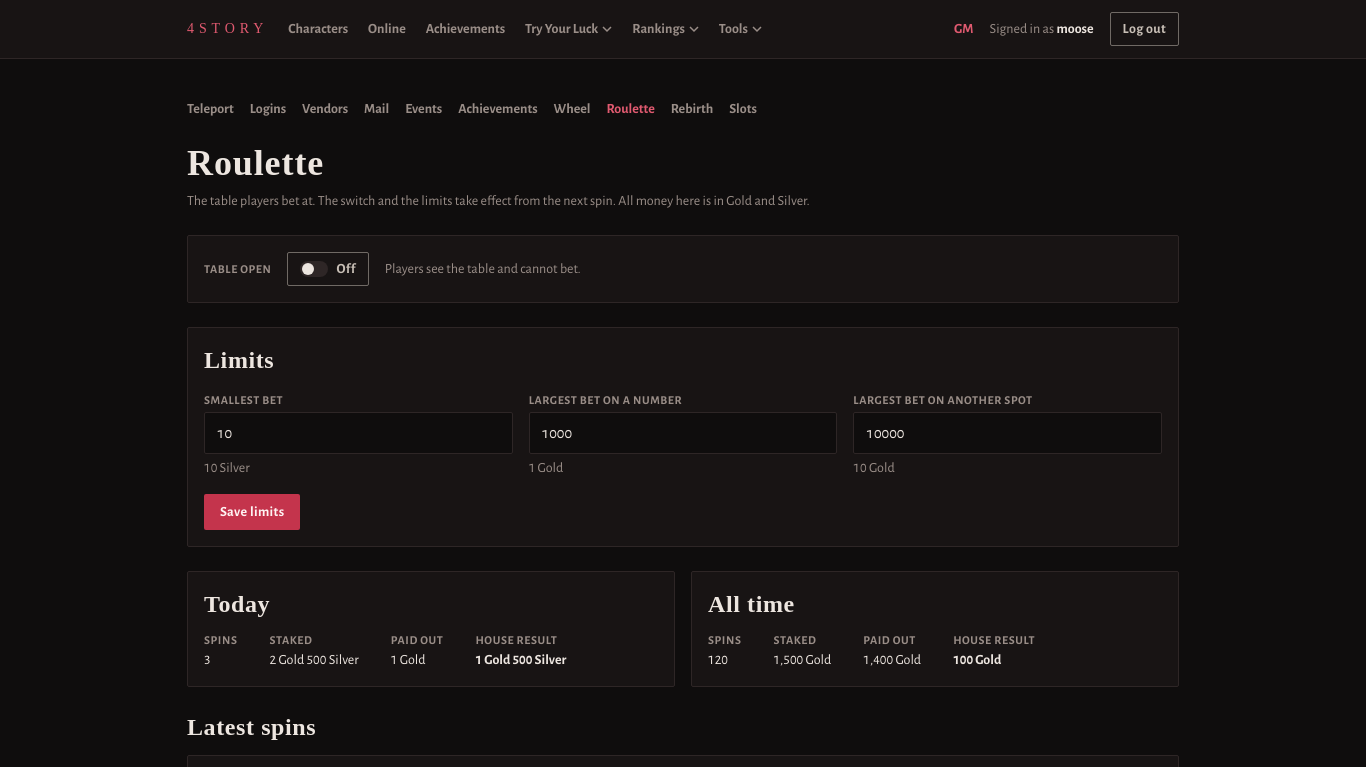
Scenario: GM roulette page › opens and closes the table
What coordinates should you click on to do the following:
click the switch named "Table open"
I would click on:
 (328, 269)
Its box is left=287, top=252, right=369, bottom=286.
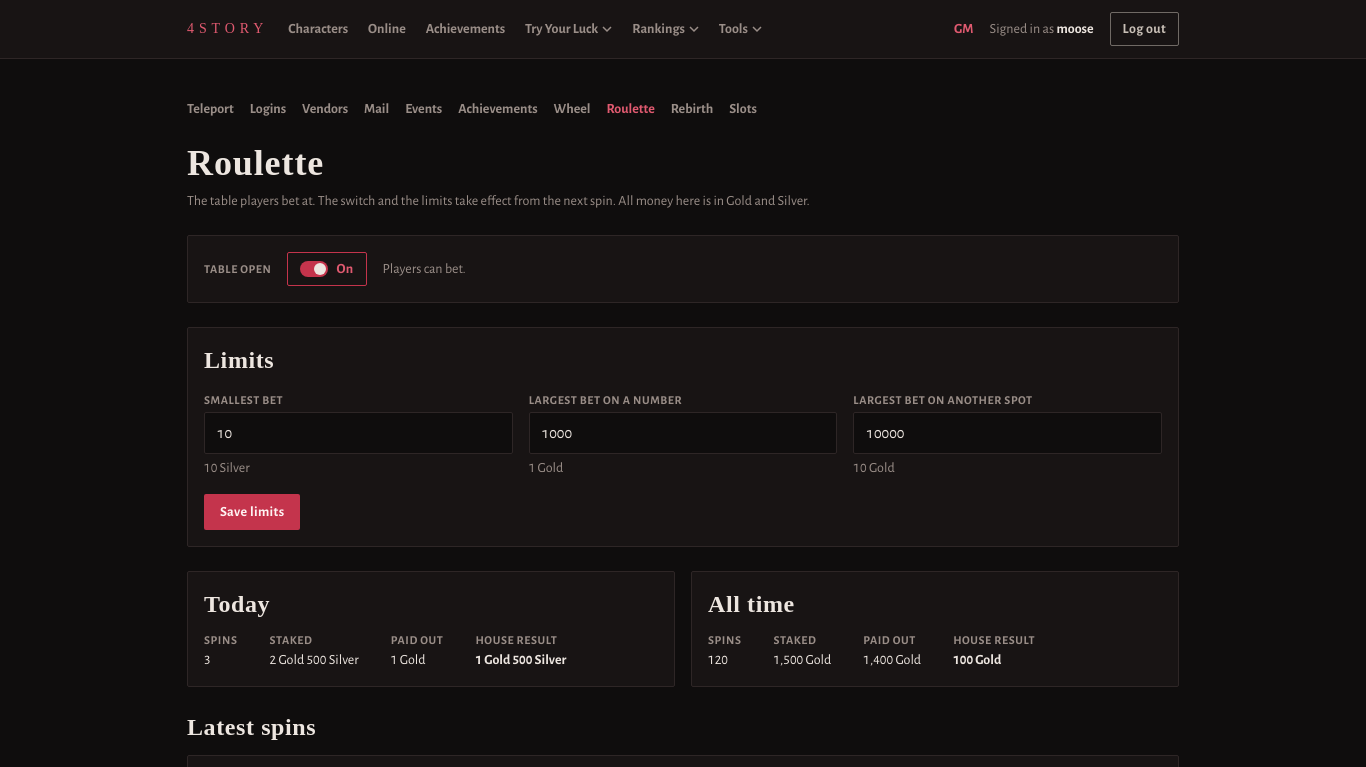
Now the switch named "Table open" is checked, box left=287, top=252, right=366, bottom=286
Now the text "Players can bet." is shown, box left=382, top=259, right=466, bottom=279
